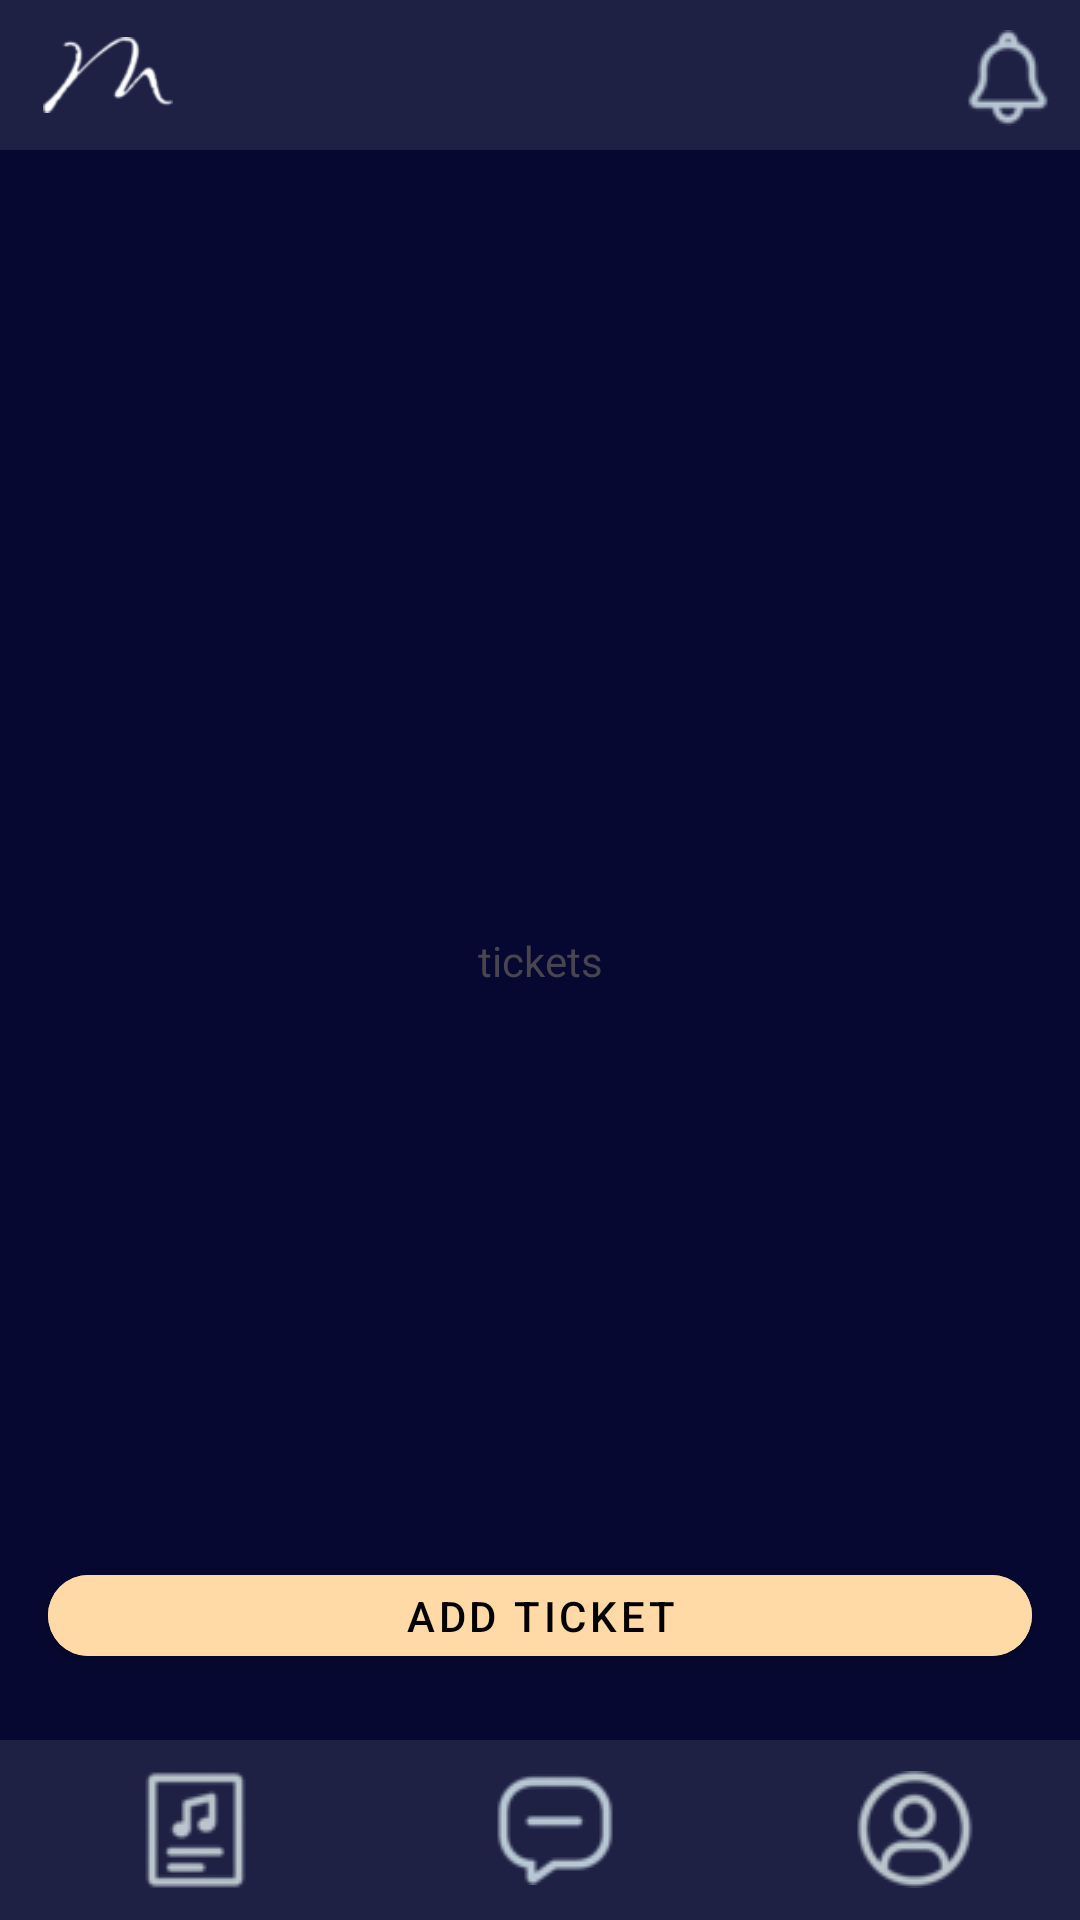

Screen size 1080*1920. Icon name, then its center in pixels as [x,y]:
bell: [1008,77]
feed: [195,1830]
profile: [914,1829]
